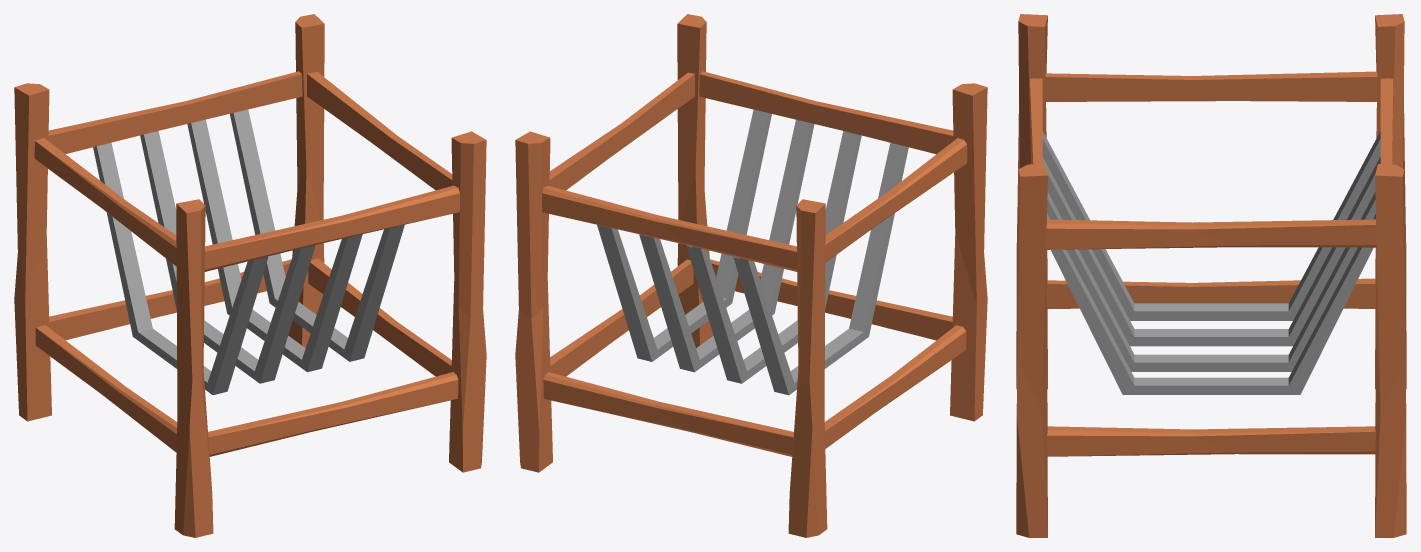
The model's file is Feeder_2.fbx.
3 views of the same model, side by side, from view 1: azimuth 30°, elevation 25°; view 2: azimuth 150°, elevation 25°; view 3: azimuth 270°, elevation 25° (orthographic). The views are drawn at different scales.
Parts seen in each view (by area): view 1: Feeder_2; view 2: Feeder_2; view 3: Feeder_2.
Part boxes in pixels (left/top/right/bottom): Feeder_2: left=14, top=14, right=486, bottom=537; Feeder_2: left=515, top=14, right=987, bottom=537; Feeder_2: left=1016, top=14, right=1406, bottom=537.
Size of the model in its own units: 37.42 by 38.75 by 37.9.
